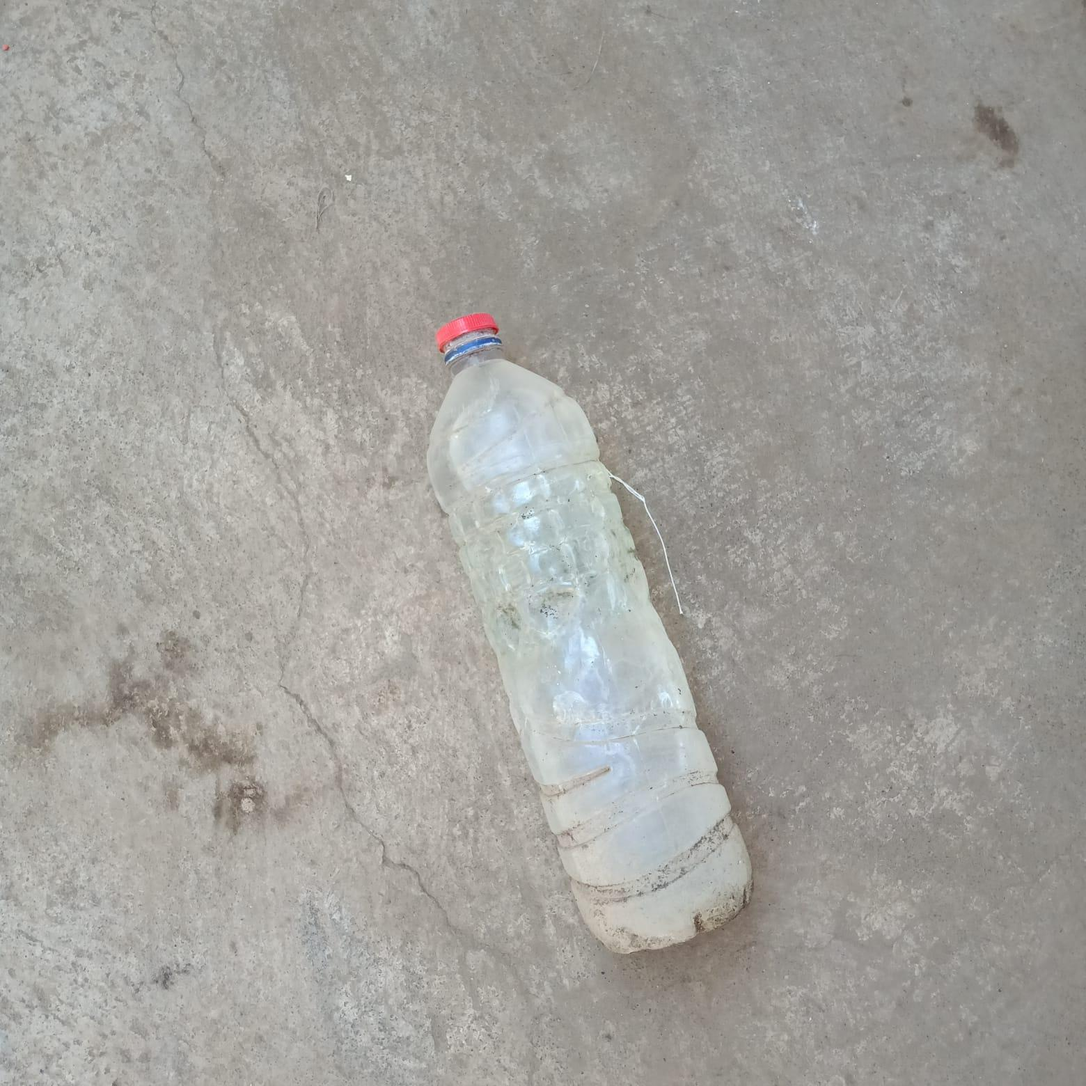Plastik: (429, 314, 756, 958)
